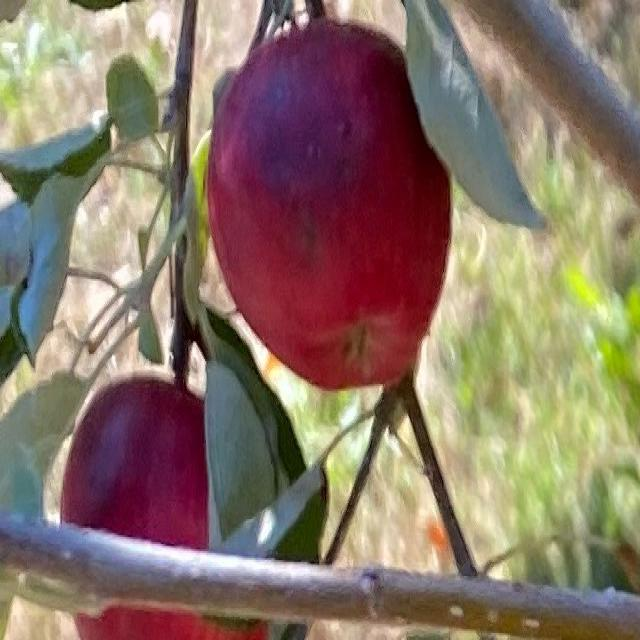Apples: (206, 23, 451, 388), (61, 375, 272, 638)
